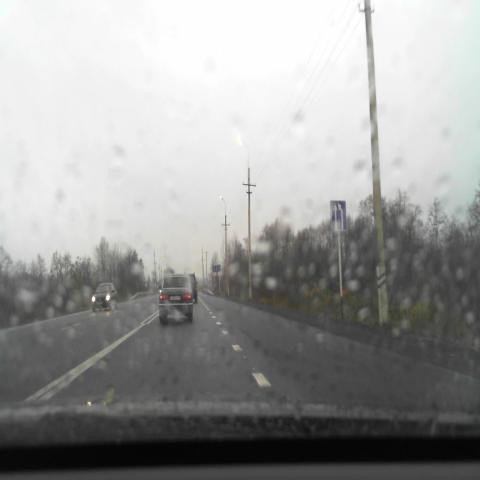5_15_5: (330, 200, 346, 231)
